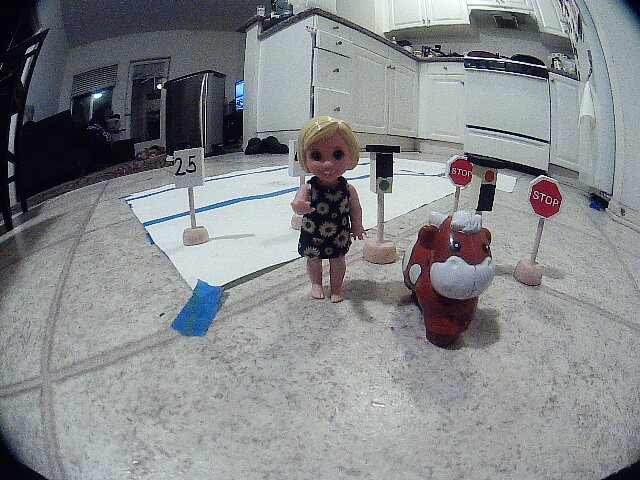Cow: (411, 210, 500, 359)
Green Traffic Light: (366, 146, 402, 197)
Person: (295, 124, 366, 311)
Red Traffic Light: (469, 154, 506, 212)
Speed Limit 25: (171, 151, 209, 188)
Stop Sign: (526, 177, 570, 222), (447, 154, 470, 186)
